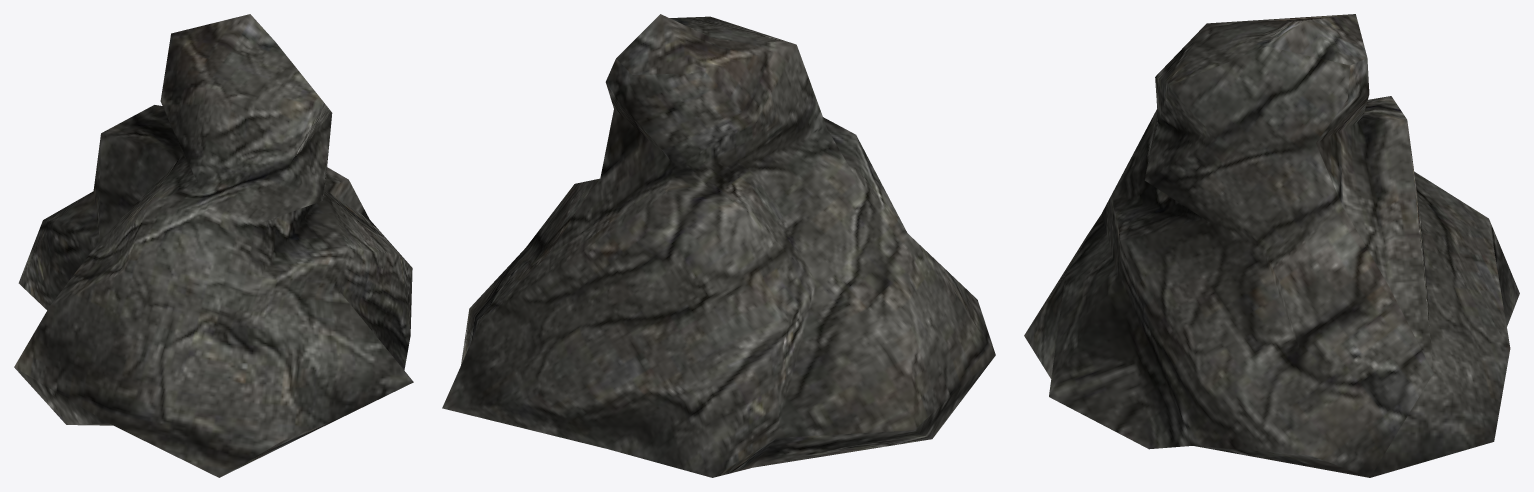
Rendered from Stal3.fbx.
The picture shows the model from 3 angles, left to right: view 1: azimuth 30°, elevation 25°; view 2: azimuth 150°, elevation 25°; view 3: azimuth 270°, elevation 25°; orthographic projection. The views are drawn at different scales.
Parts seen in each view (by area): view 1: Stal11; view 2: Stal11; view 3: Stal11.
Part boxes in pixels (<box>): Stal11: <box>14,14,413,477</box>; Stal11: <box>442,14,995,477</box>; Stal11: <box>1024,14,1519,477</box>.
Bounding box in the file's own units: 4.81 × 4.13 × 4.55.
